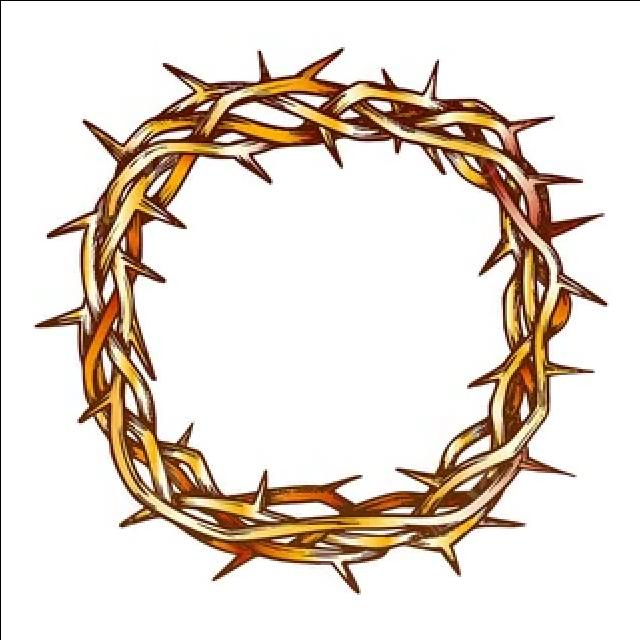crown: (61, 54, 596, 600)
